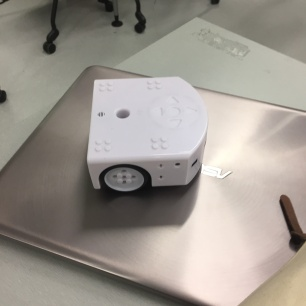thymio: (81, 74, 214, 200)
